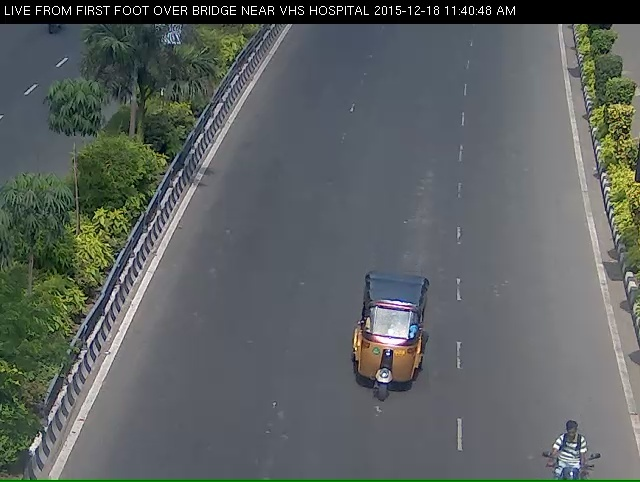Car: (335, 282, 438, 437)
